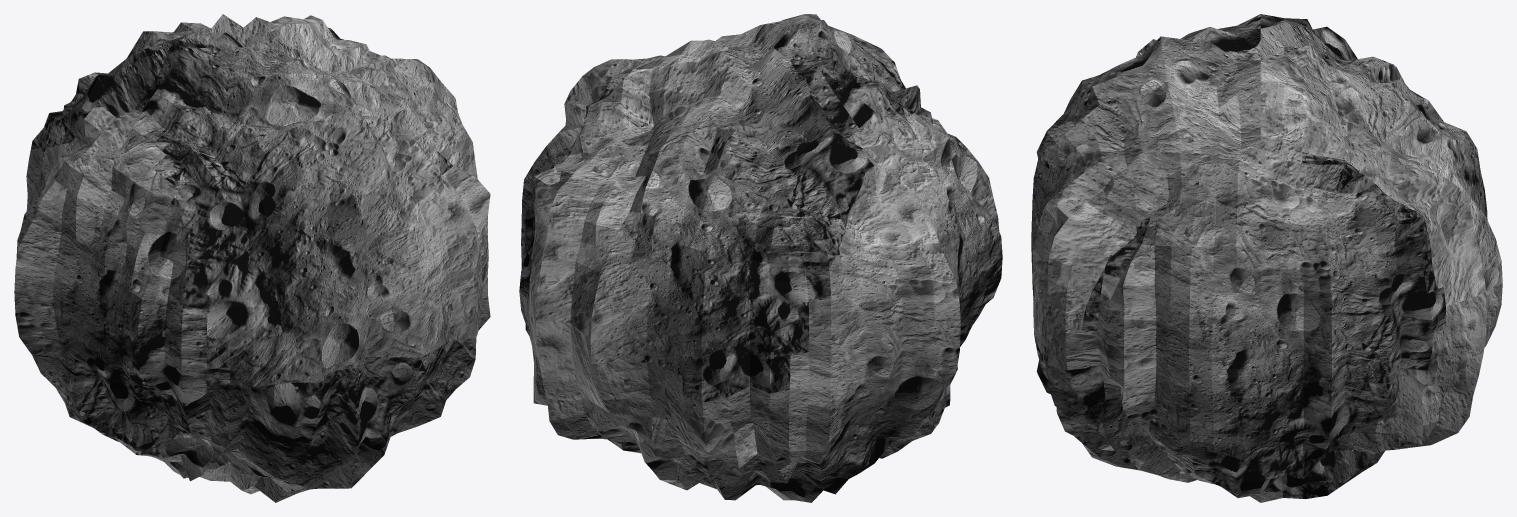
File: asteroid112.obj
3 views of the same model, side by side, from view 1: azimuth 30°, elevation 25°; view 2: azimuth 150°, elevation 25°; view 3: azimuth 270°, elevation 25° (orthographic).
Parts seen in each view (by area): view 1: Cube_Cube.002; view 2: Cube_Cube.002; view 3: Cube_Cube.002.
Boxes of the visible parts, <box> form: Cube_Cube.002: <box>14,14,490,502</box>; Cube_Cube.002: <box>519,14,1002,502</box>; Cube_Cube.002: <box>1031,14,1502,502</box>.
Size of the model in its own units: 1.79 by 1.81 by 1.72.
